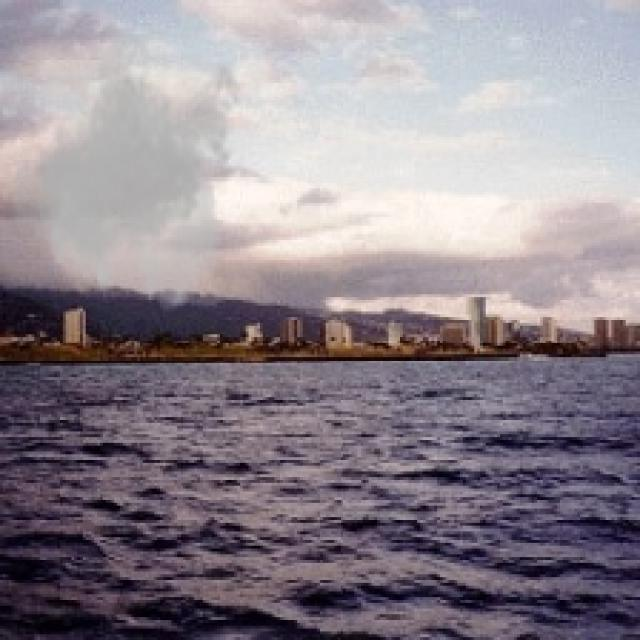smoke: (3, 34, 248, 314)
